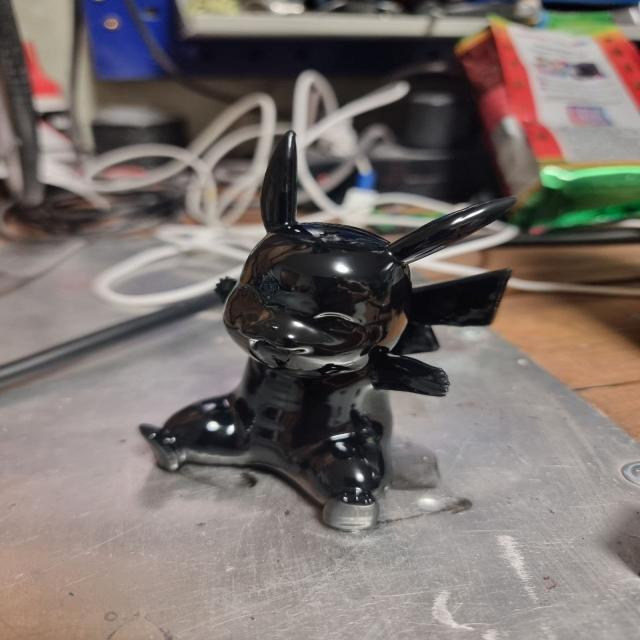Without deffect: (158, 133, 534, 544)
